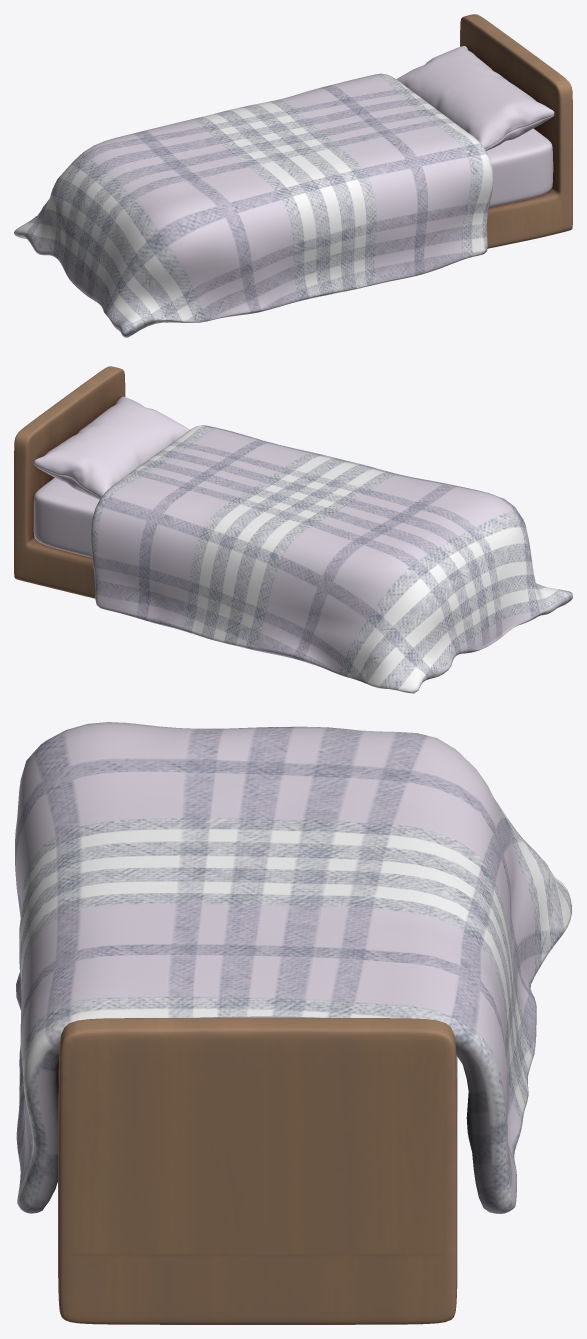
File: children_bed (1).glb
The picture shows the model from 3 angles, top to bottom: view 1: azimuth 30°, elevation 25°; view 2: azimuth 150°, elevation 25°; view 3: azimuth 270°, elevation 25°; orthographic projection. The views are drawn at different scales.
Parts seen in each view (by area): view 1: Plane.024_2, Cube.016_4, Cube.017_3, Cube.015_5; view 2: Plane.024_2, Cube.016_4, Cube.017_3, Cube.015_5; view 3: Plane.024_2, Cube.016_4.
Part boxes in pixels (x1,y1,x2,y2): Plane.024_2: [14, 73, 493, 337]; Cube.016_4: [165, 14, 572, 322]; Cube.017_3: [396, 46, 554, 150]; Cube.015_5: [486, 128, 553, 207]; Plane.024_2: [91, 425, 572, 693]; Cube.016_4: [14, 366, 125, 598]; Cube.017_3: [34, 396, 189, 499]; Cube.015_5: [33, 478, 99, 557]; Plane.024_2: [15, 722, 571, 1213]; Cube.016_4: [58, 1017, 457, 1324].
Bounding box in the file's own units: 6.06 × 1.9 × 3.23.
2 materials, 2 textured.
